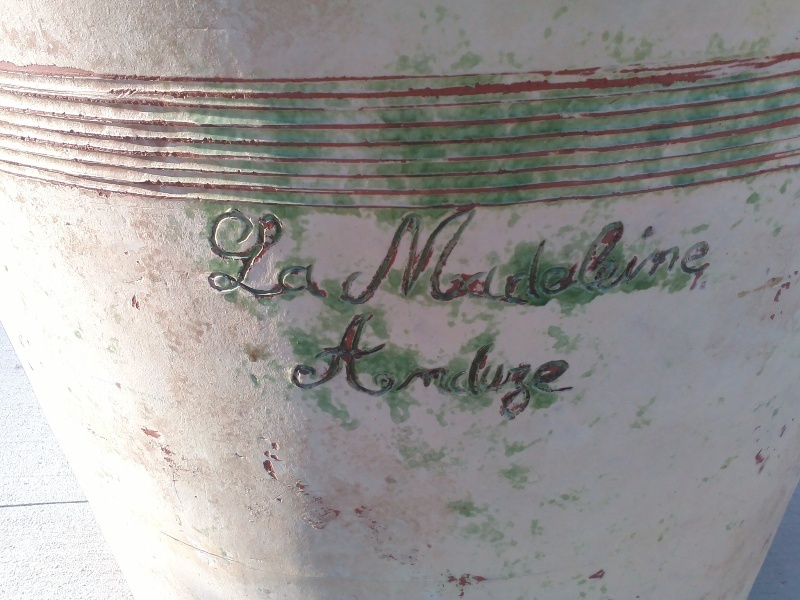text: (305, 309, 320, 424), (321, 309, 336, 424), (337, 309, 352, 424), (353, 309, 368, 424), (369, 309, 384, 424), (385, 309, 400, 424), (401, 309, 416, 424), (417, 309, 432, 424), (433, 309, 448, 424), (449, 309, 464, 424), (465, 309, 480, 424), (481, 309, 496, 424), (497, 309, 512, 424), (513, 309, 528, 424), (529, 309, 544, 424), (545, 309, 560, 424), (561, 309, 576, 424), (385, 200, 400, 309), (401, 200, 416, 309), (417, 200, 432, 309), (433, 200, 448, 309), (449, 200, 464, 309), (465, 200, 480, 309), (481, 200, 496, 309), (497, 200, 512, 309), (513, 200, 528, 309), (529, 200, 544, 309), (545, 200, 560, 309), (561, 200, 576, 309), (577, 200, 592, 309), (593, 200, 608, 309), (609, 200, 624, 309), (625, 200, 640, 309), (641, 200, 656, 309), (657, 200, 672, 309), (673, 200, 688, 309), (689, 200, 704, 309), (225, 208, 240, 301), (241, 208, 256, 301), (257, 208, 272, 301), (273, 208, 288, 301), (289, 208, 304, 301), (305, 208, 320, 301), (705, 200, 715, 309), (213, 208, 224, 301), (296, 309, 304, 424), (321, 208, 329, 301), (577, 309, 581, 424)
